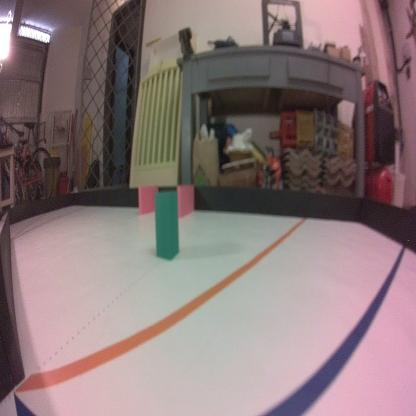green: (153, 190, 182, 261)
magenta: (176, 184, 196, 216), (136, 184, 158, 211)
